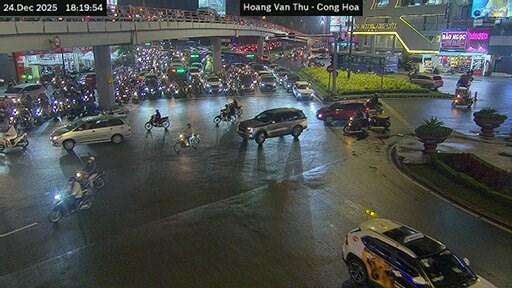motorbike: (48, 189, 90, 221), (173, 134, 198, 153), (342, 116, 368, 133), (452, 86, 473, 107), (144, 115, 169, 130), (368, 112, 390, 129), (213, 109, 236, 124), (74, 170, 88, 187), (92, 171, 103, 189), (131, 90, 137, 103)
